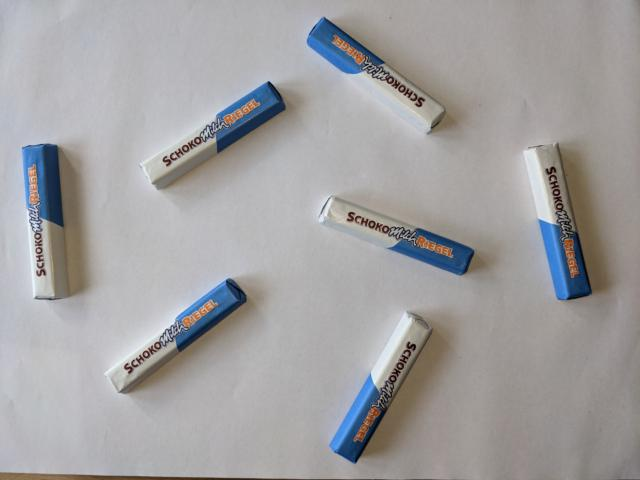Schokoriegel: (101, 276, 249, 398), (304, 14, 449, 135), (137, 78, 289, 193), (326, 308, 434, 467), (314, 192, 476, 277), (520, 139, 595, 302), (18, 143, 73, 302)
